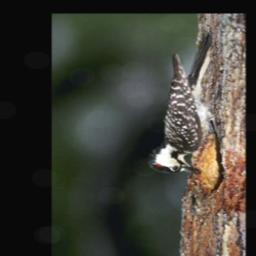Woodpecker: (144, 31, 225, 176)
